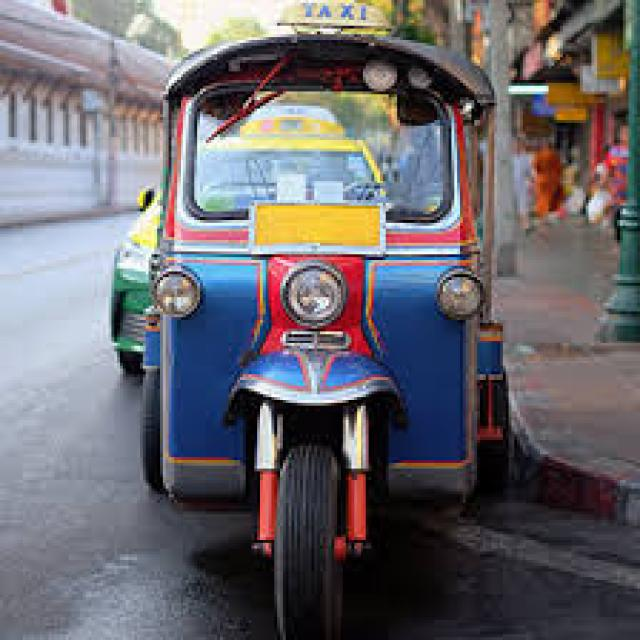tuktuk: (121, 0, 597, 640)
